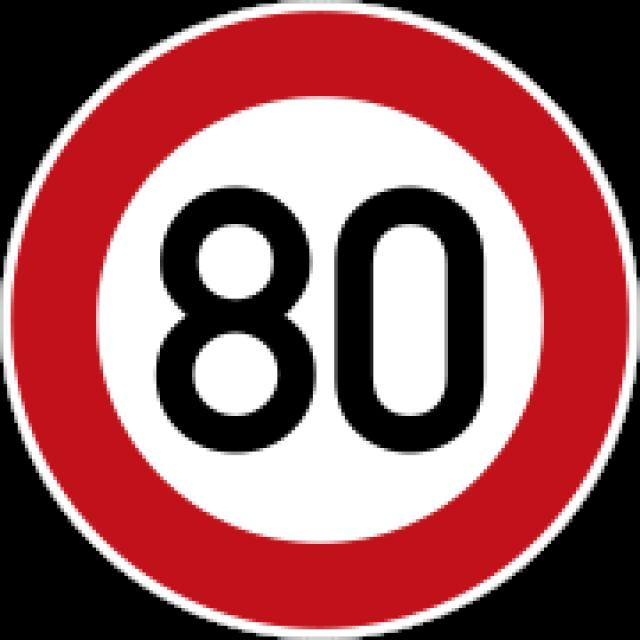Speed Limit -80-: (155, 184, 490, 457)
